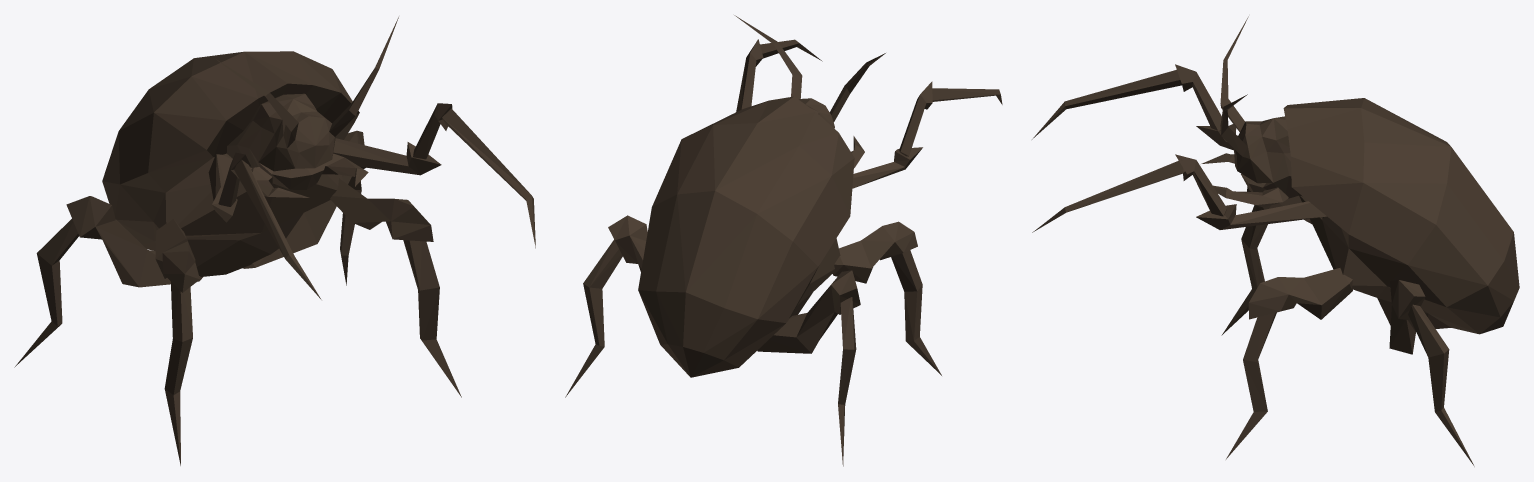
Rendered from GIANT_BUG_BODY.OBJ.
3 views of the same model, side by side, from view 1: azimuth 30°, elevation 25°; view 2: azimuth 150°, elevation 25°; view 3: azimuth 270°, elevation 25° (orthographic). The views are drawn at different scales.
Parts seen in each view (by area): view 1: GIANT_BUG_BODY; view 2: GIANT_BUG_BODY; view 3: GIANT_BUG_BODY.
Boxes of the visible parts, box(x1,y1,x2,y2) form: GIANT_BUG_BODY: box(14, 17, 535, 465); GIANT_BUG_BODY: box(565, 15, 1002, 466); GIANT_BUG_BODY: box(1032, 16, 1519, 466).
Bounding box in the file's own units: 1.84 × 2.05 × 2.62.
